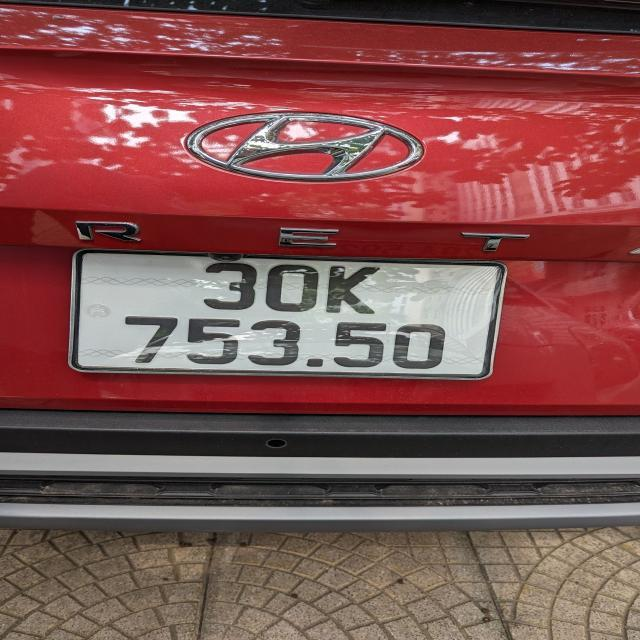license: (67, 248, 507, 379)
